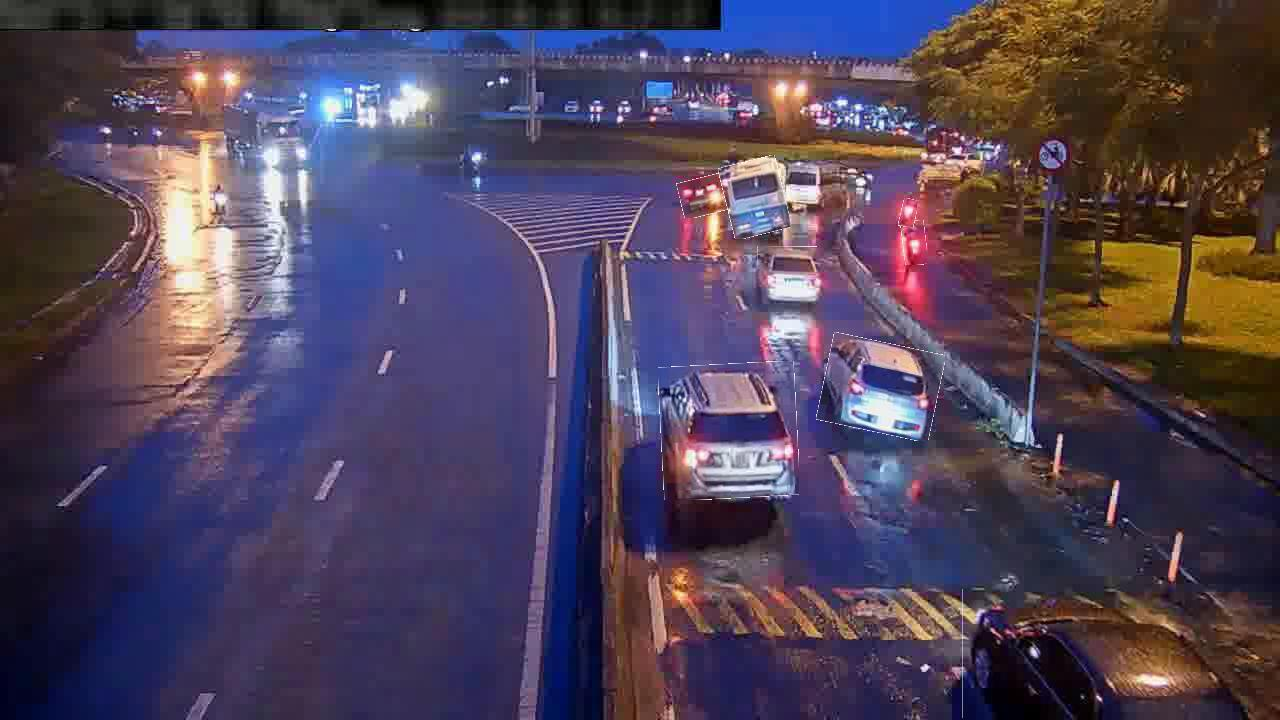car: (962, 589, 1245, 719), (660, 363, 798, 500), (820, 338, 942, 437), (757, 247, 819, 303), (678, 173, 739, 216)
motorbike: (902, 221, 927, 266), (900, 199, 917, 228)
passenger_car: (722, 158, 788, 238)
